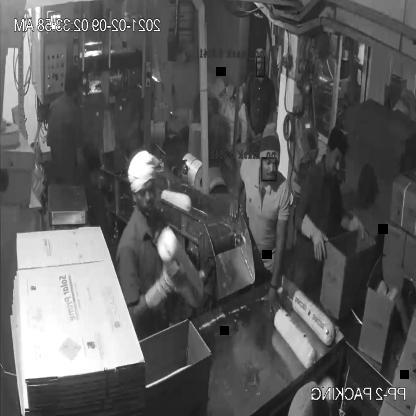glove: (143, 251, 185, 318), (296, 214, 330, 266), (345, 208, 374, 248)
no_glove: (263, 204, 295, 326), (387, 282, 416, 354), (74, 136, 107, 192), (226, 163, 254, 226), (242, 99, 257, 144)
